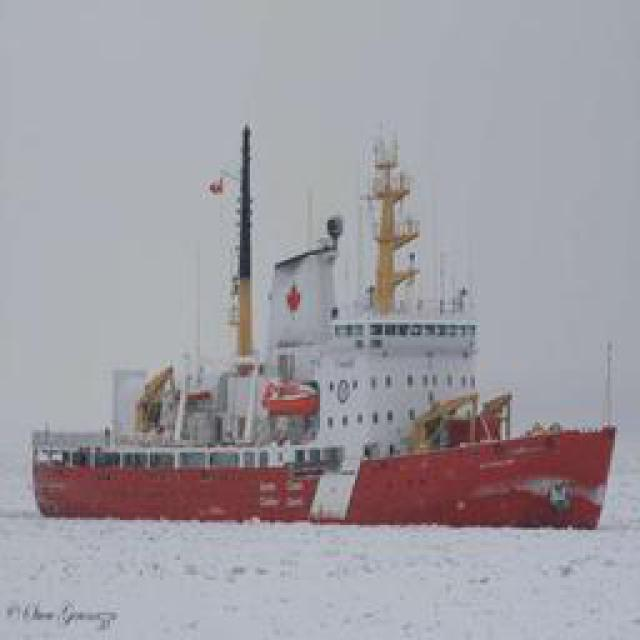Ship: (46, 392, 609, 530)
